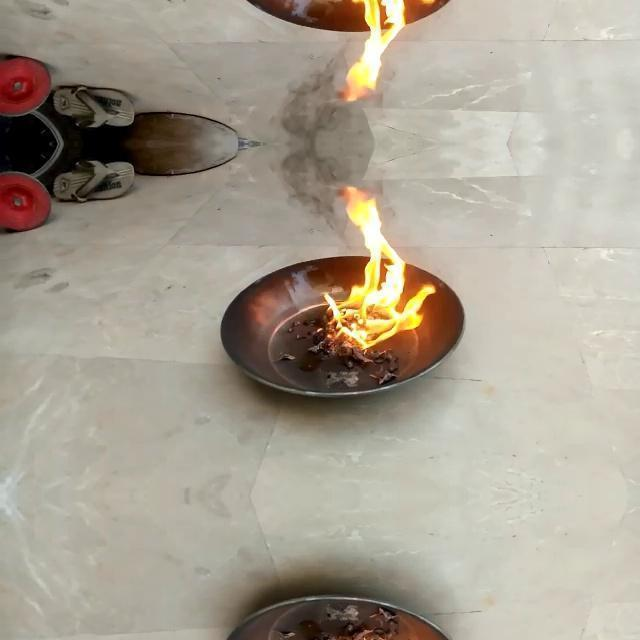smoke: (317, 184, 435, 352), (317, 0, 435, 104)
